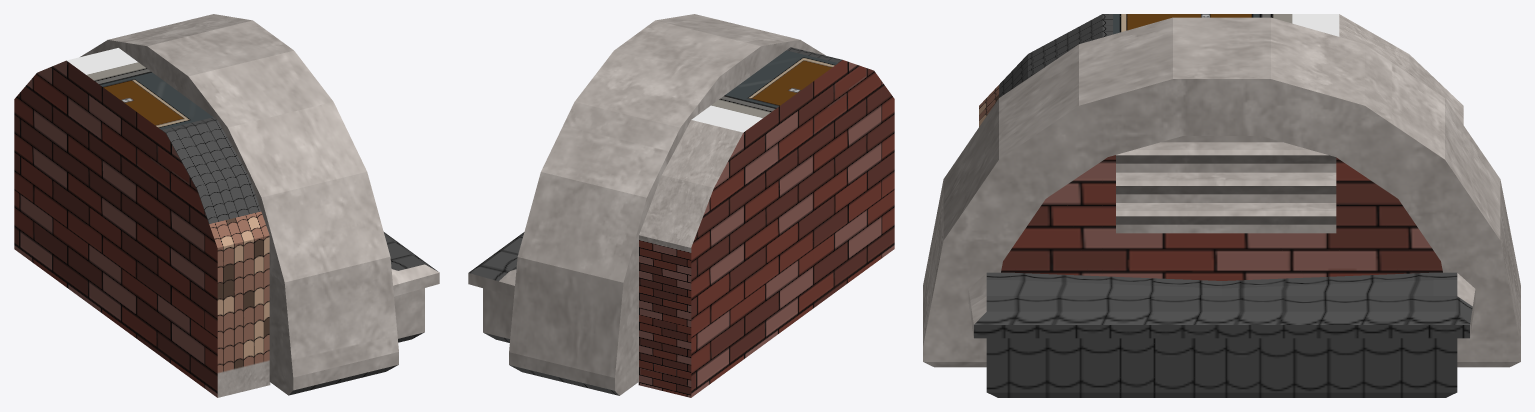
File: ItemShopRecalcNormals.fbx
The picture shows the model from 3 angles, left to right: view 1: azimuth 30°, elevation 25°; view 2: azimuth 150°, elevation 25°; view 3: azimuth 270°, elevation 25°; orthographic projection. The views are drawn at different scales.
Visible parts, largest first — view 1: Cube.002, Cube; view 2: Cube.002, Cube; view 3: Cube, Cube.002, Cube.001.
Part boxes in pixels (box(x1,y1,x2,y2)): Cube.002: box(14, 48, 270, 397); Cube: box(80, 14, 439, 395); Cube.002: box(638, 47, 894, 397); Cube: box(468, 14, 825, 395); Cube: box(923, 17, 1520, 397); Cube.002: box(979, 14, 1463, 280); Cube.001: box(1116, 136, 1336, 233).
Size of the model in its own units: 836 by 906 by 1652.
